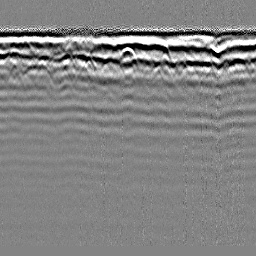cavity: (118, 46, 136, 62)
